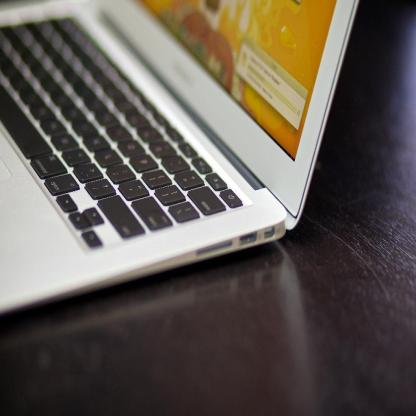board: (0, 0, 358, 310)
